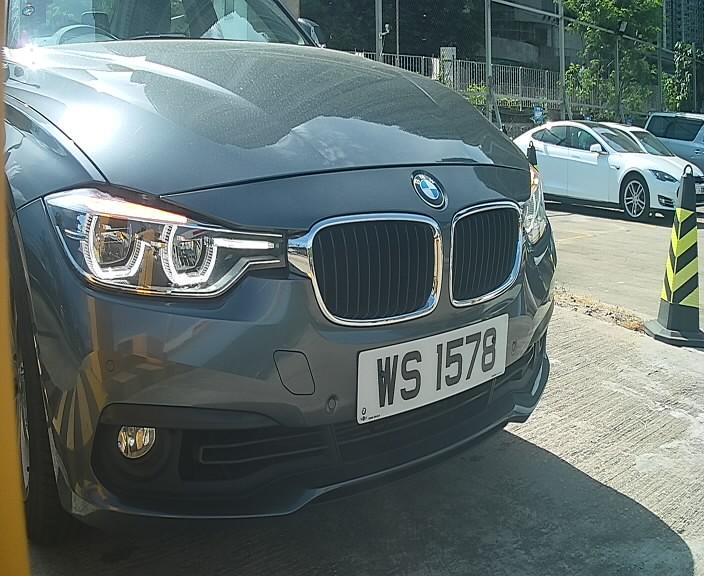privatecar: (10, 19, 569, 533)
